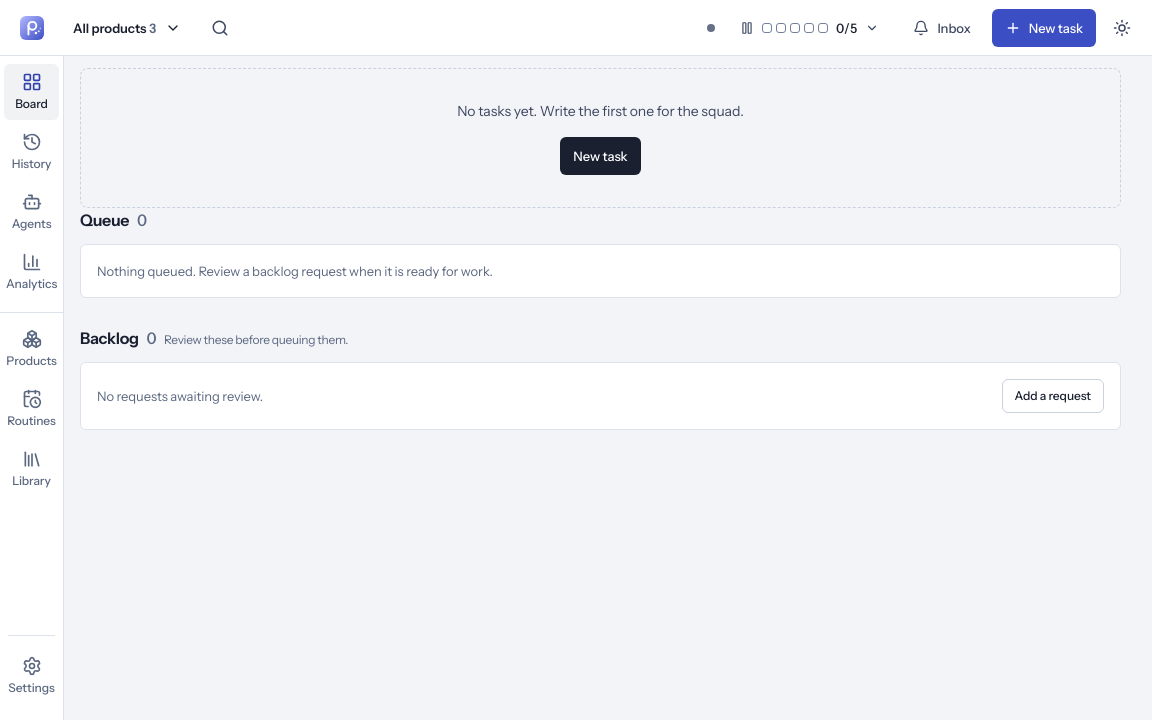
Test: reviewing a backlog task › keeps an empty Backlog visible directly below Queue and offers to add a request
This screenshot has width=1152, height=720.
Expected: the 1st text "0" is shown, [137, 208, 146, 232]
Expected: the text "0" next to "Review these before queuing them." is shown, [147, 328, 156, 348]
Click the button "Add a request".
click(1053, 396)  # box [1002, 379, 1104, 413]
(page scrolled)
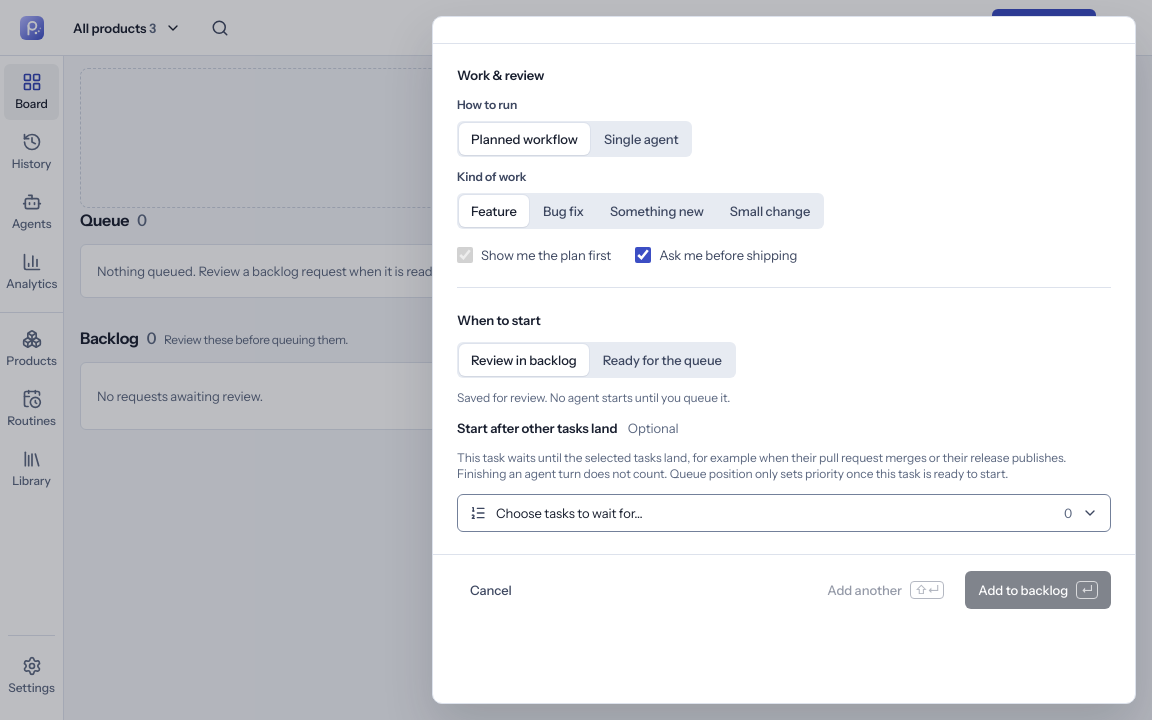
Expected: the radio button labelled "Review in backlog" is shown, [459, 344, 589, 376]
